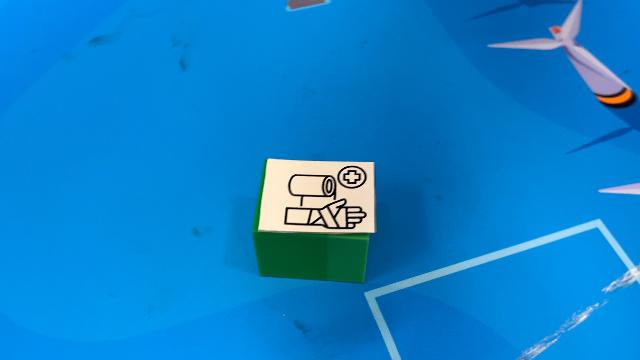bandage: (251, 155, 377, 283)
